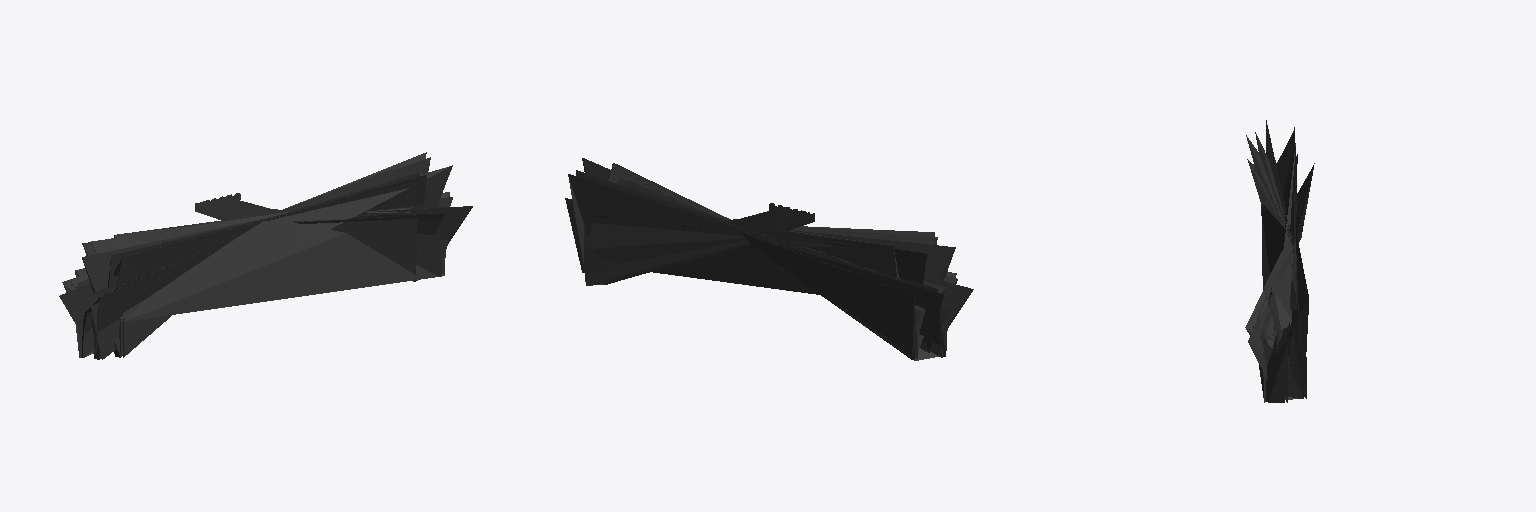
The model's file is Gravestone.obj.
3 renders of one model, left to right at view 1: azimuth 30°, elevation 25°; view 2: azimuth 150°, elevation 25°; view 3: azimuth 270°, elevation 25°, orthographic.
Visible parts, largest first — view 1: Text001, Text002; view 2: Text001, Text002; view 3: Text002, Text001, Box003.
Part boxes in pixels (left/top/right/bottom): Text001: left=59, top=153, right=472, bottom=359; Text002: left=60, top=152, right=466, bottom=359; Text001: left=568, top=158, right=973, bottom=360; Text002: left=565, top=158, right=956, bottom=360; Text002: left=1246, top=121, right=1313, bottom=401; Text001: left=1245, top=120, right=1314, bottom=402; Box003: left=1266, top=340, right=1288, bottom=402.
Bounding box in the file's own units: 563247 × 162569 × 83879.